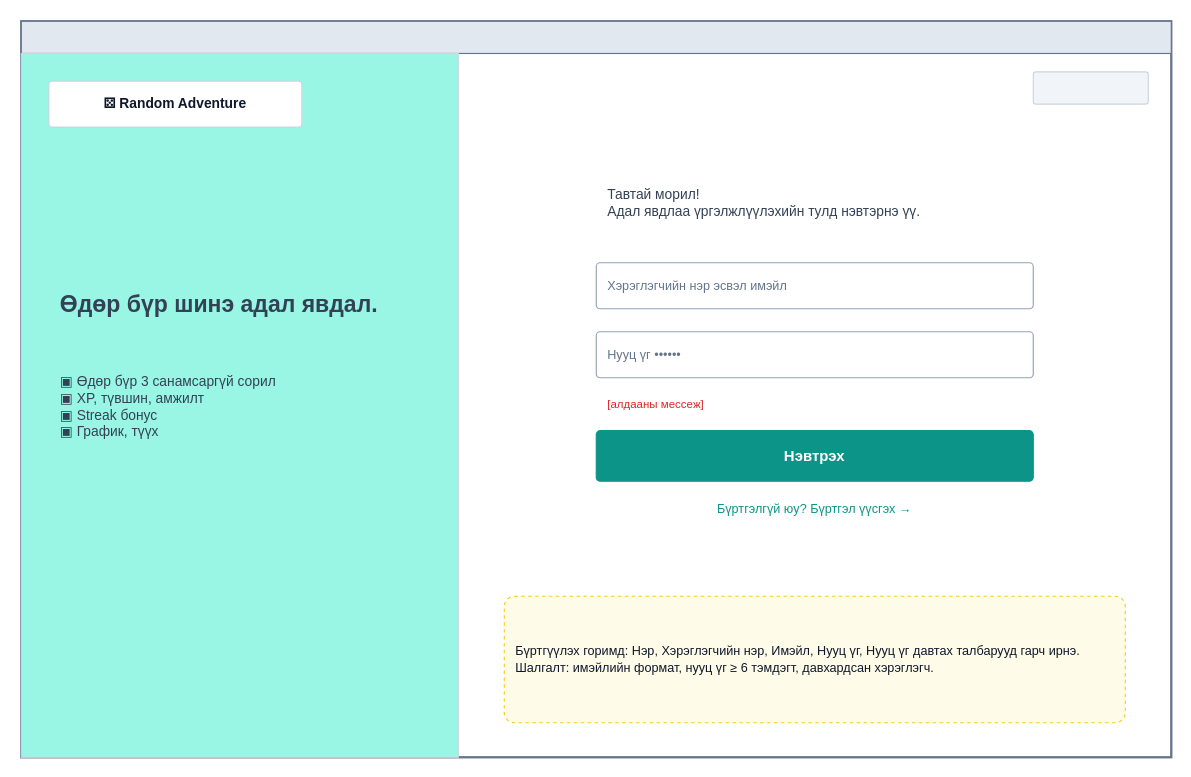
Image size: 1191x777. Some labels were removed from this diagram. The shapes that lost their labels are listed below. From the top down, each one's centre as x and y in pixels, then its label:
[595,36]: Нэвтрэх / Бүртгүүлэх цонх
[1090,87]: ☀ Light
